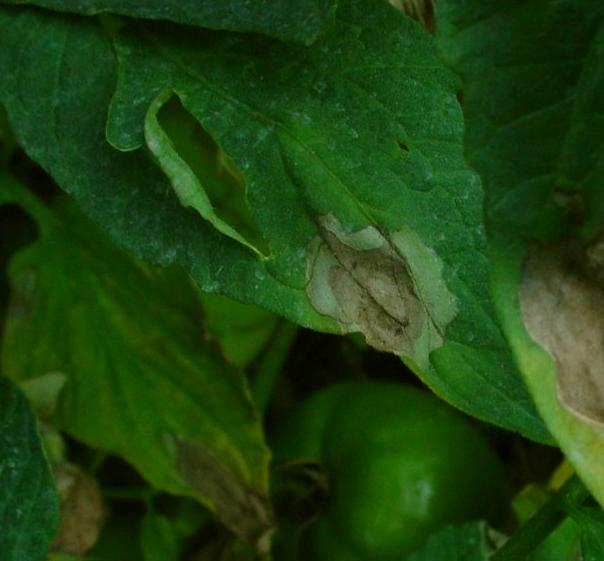Tomato leaf late blight: (1, 9, 529, 406)
